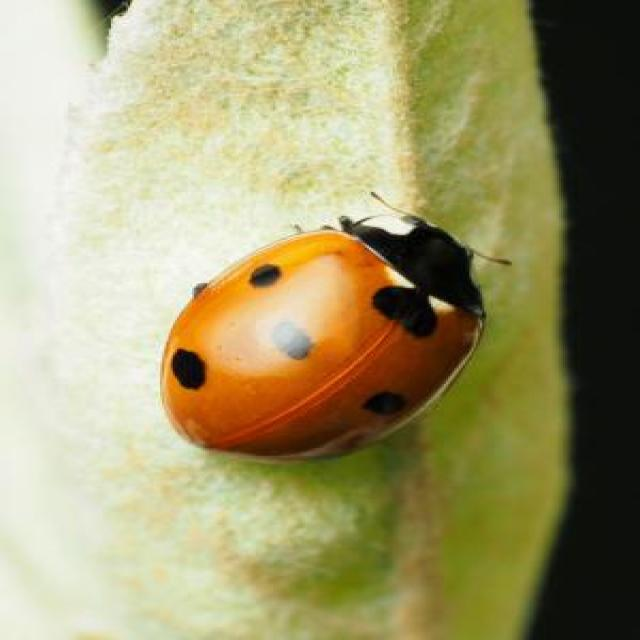antennae: (370, 184, 524, 271)
body: (165, 208, 484, 466)
insect: (163, 187, 515, 462)
wings: (163, 230, 480, 460)
